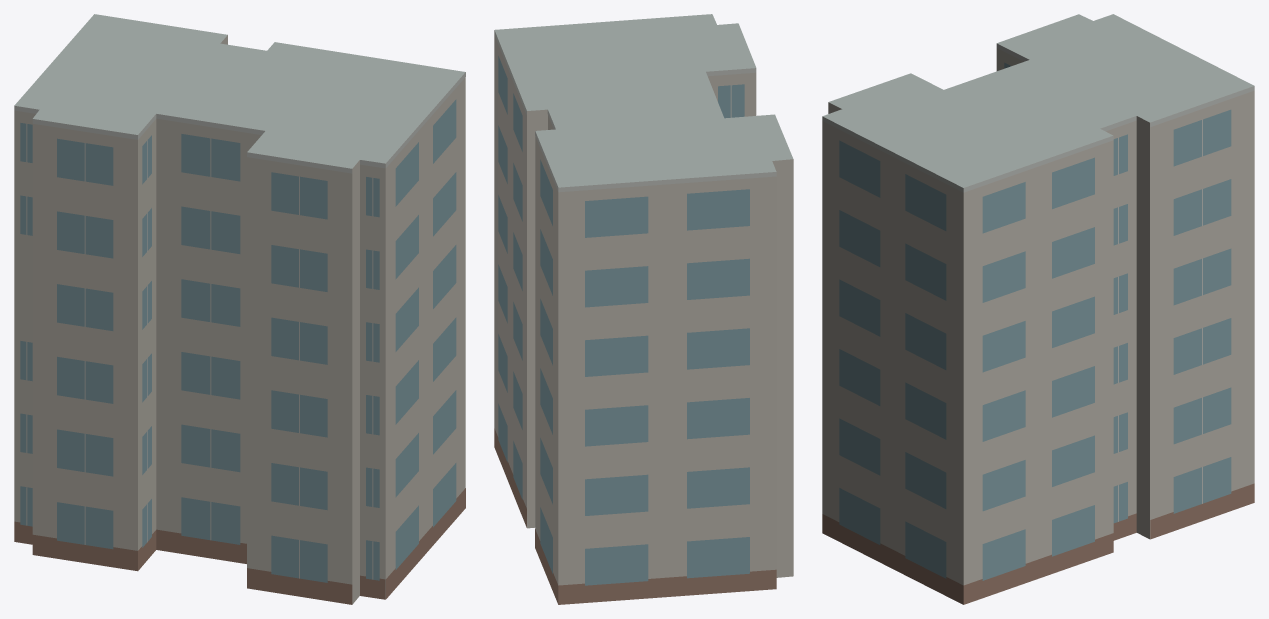
Rendered from survey-upis-32843198.glb.
3 views of the same model, side by side, from view 1: azimuth 30°, elevation 25°; view 2: azimuth 150°, elevation 25°; view 3: azimuth 270°, elevation 25° (orthographic). The views are drawn at different scales.
Visible parts, largest first — view 1: survey-upis-32843198.tmp; view 2: survey-upis-32843198.tmp; view 3: survey-upis-32843198.tmp.
Boxes of the visible parts, <box> form: survey-upis-32843198.tmp: <box>14,14,465,604</box>; survey-upis-32843198.tmp: <box>494,14,793,604</box>; survey-upis-32843198.tmp: <box>822,14,1254,604</box>.
Bounding box in the file's own units: 19.62 × 21.9 × 20.59.
